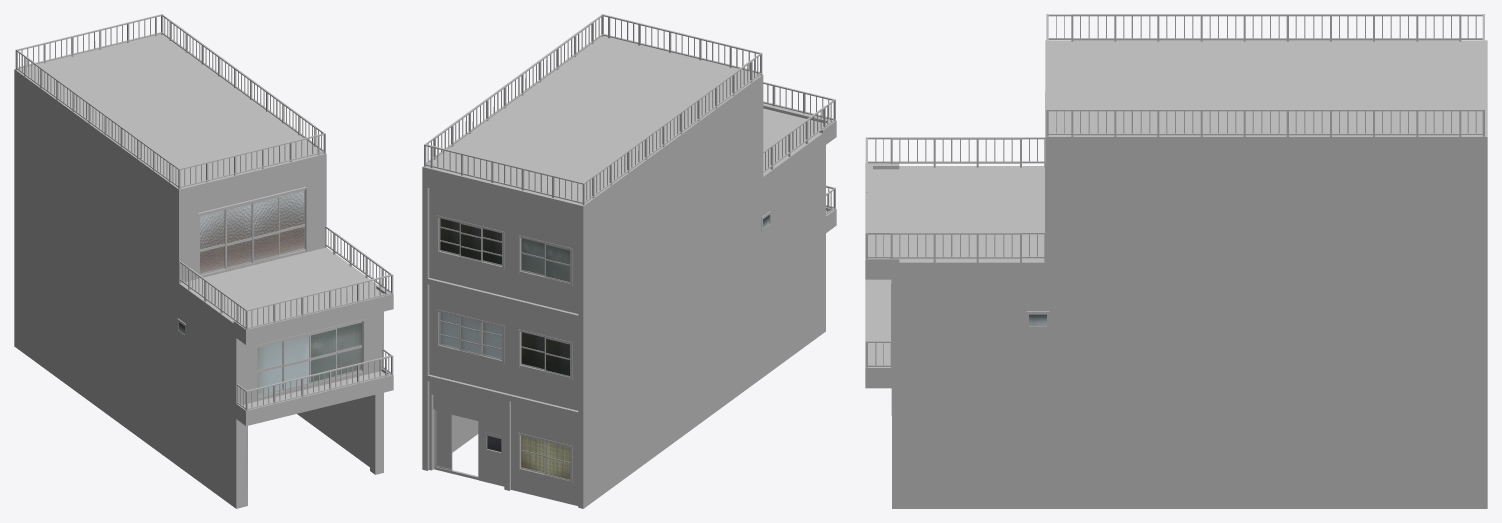
The model's file is Bldg_mobbil01a.fbx.
3 renders of one model, left to right at view 1: azimuth 30°, elevation 25°; view 2: azimuth 150°, elevation 25°; view 3: azimuth 270°, elevation 25°, orthographic. The views are drawn at different scales.
Parts seen in each view (by area): view 1: Bldg_mobbil01a; view 2: Bldg_mobbil01a; view 3: Bldg_mobbil01a.
Part boxes in pixels (x1,y1,x2,y2): Bldg_mobbil01a: (14, 14, 393, 508); Bldg_mobbil01a: (422, 14, 836, 508); Bldg_mobbil01a: (865, 14, 1487, 508).
Bounding box in the file's own units: 6.11 × 11.78 × 16.6.
